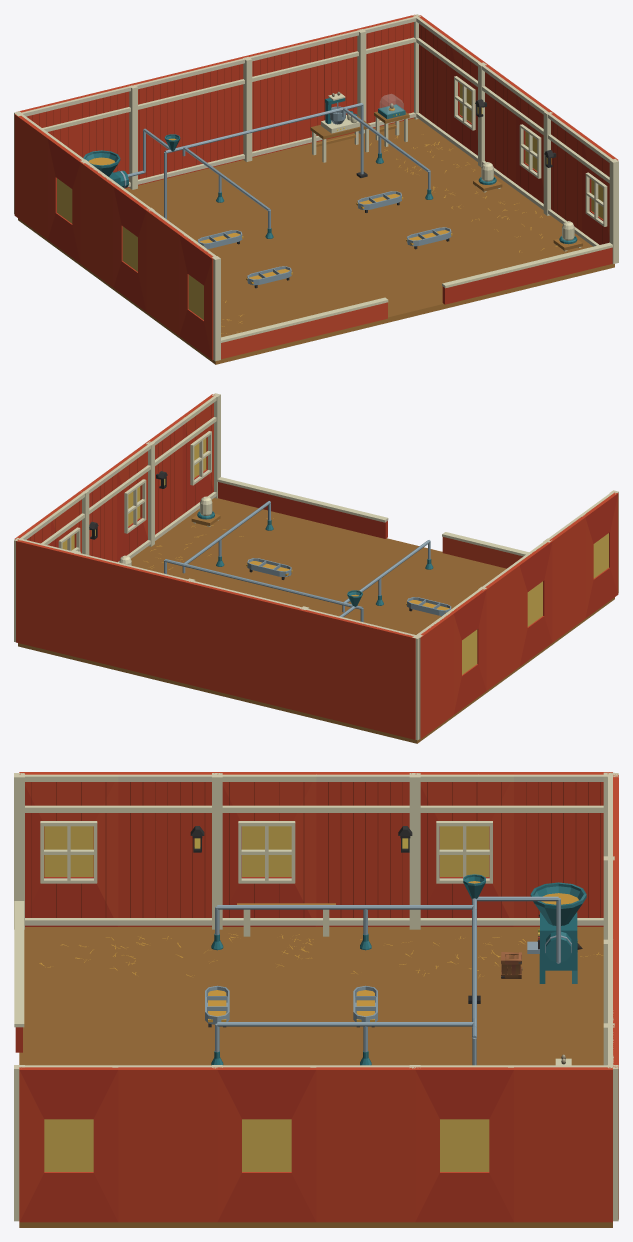
File: CoopInterior_Lv3.fbx
3 views of the same model, one above another, from view 1: azimuth 30°, elevation 25°; view 2: azimuth 150°, elevation 25°; view 3: azimuth 270°, elevation 25° (orthographic). The views are drawn at different scales.
Parts seen in each view (by area): view 1: Floor.003, FrontCutaway_2mDoor.003, N01_Wall_2m.036, N01_Wall_2m.037, N01_Wall_2m.035, N01_Wall_2m.039, N01_Wall_2m.038, N01_WindowWall_2m.017, N01_Wall_2m.034, N01_Wall_2m.040, N01_Wall_2m.041, N01_WindowWall_2m.018 (+25 smaller); view 2: Floor.003, N01_Wall_2m.034, N01_Wall_2m.035, N01_Wall_2m.036, N01_Wall_2m.038, N01_Wall_2m.037, N01_Wall_2m.033, N01_Wall_2m.039, FrontCutaway_2mDoor.003, N01_Wall_2m.040, N01_WindowWall_2m.019, N01_WindowWall_2m.017 (+14 smaller); view 3: Floor.003, N01_WindowWall_2m.021, N01_WindowWall_2m.020, N01_Wall_2m.043, N01_Wall_2m.044, N01_WindowWall_2m.022, N01_Wall_2m.045, N01_WindowWall_2m.017, N01_Wall_2m.040, N01_WindowWall_2m.018, N01_Wall_2m.041, N01_WindowWall_2m.019 (+11 smaller).
Boxes of the visible parts, <box> form: Floor.003: <box>18,118,614,364</box>; FrontCutaway_2mDoor.003: <box>221,242,612,359</box>; N01_Wall_2m.036: <box>187,56,245,172</box>; N01_Wall_2m.037: <box>244,42,304,157</box>; N01_Wall_2m.035: <box>130,70,190,185</box>; N01_Wall_2m.039: <box>358,14,415,127</box>; N01_Wall_2m.038: <box>301,28,359,144</box>; N01_WindowWall_2m.017: <box>179,233,217,360</box>; N01_Wall_2m.034: <box>73,84,131,188</box>; N01_Wall_2m.040: <box>146,209,184,335</box>; N01_Wall_2m.041: <box>80,161,118,287</box>; N01_WindowWall_2m.018: <box>113,185,150,311</box>; Floor.003: <box>18,498,614,743</box>; N01_Wall_2m.034: <box>301,608,361,725</box>; N01_Wall_2m.035: <box>244,594,302,711</box>; N01_Wall_2m.036: <box>187,581,247,697</box>; N01_Wall_2m.038: <box>73,553,133,670</box>; N01_Wall_2m.037: <box>130,566,188,683</box>; N01_Wall_2m.033: <box>358,622,417,739</box>; N01_Wall_2m.039: <box>16,539,74,656</box>; FrontCutaway_2mDoor.003: <box>217,477,528,568</box>; N01_Wall_2m.040: <box>548,516,585,642</box>; N01_WindowWall_2m.019: <box>448,589,486,714</box>; N01_WindowWall_2m.017: <box>579,492,618,618</box>; Floor.003: <box>19,927,612,1227</box>; N01_WindowWall_2m.021: <box>217,1065,316,1222</box>; N01_WindowWall_2m.020: <box>19,1065,118,1222</box>; N01_Wall_2m.043: <box>118,1065,217,1222</box>; N01_Wall_2m.044: <box>316,1065,415,1222</box>; N01_WindowWall_2m.022: <box>415,1065,513,1222</box>; N01_Wall_2m.045: <box>514,1065,612,1222</box>; N01_WindowWall_2m.017: <box>19,772,118,926</box>; N01_Wall_2m.040: <box>118,772,217,926</box>; N01_WindowWall_2m.018: <box>217,772,316,926</box>; N01_Wall_2m.041: <box>316,772,415,926</box>; N01_WindowWall_2m.019: <box>415,772,513,926</box>.
Size of the model in its own units: 14.24 by 3.58 by 12.23.
